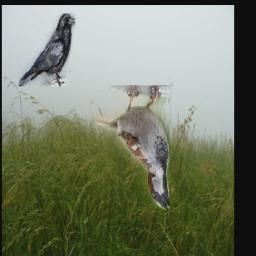Crow: (19, 14, 76, 87)
Sparrow: (95, 85, 171, 210)
